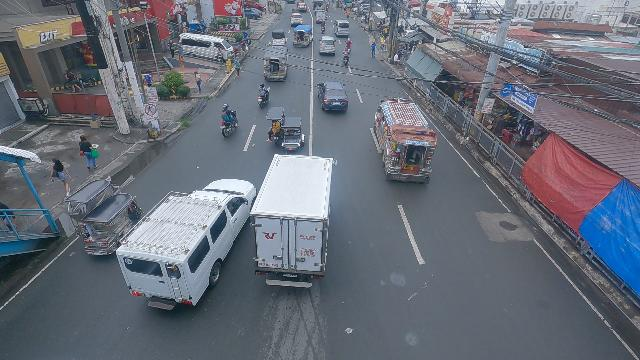car: (317, 80, 349, 112), (318, 36, 337, 55), (244, 7, 263, 19), (290, 12, 304, 26), (297, 3, 308, 13)
jeepney: (374, 95, 438, 185), (263, 45, 289, 82), (292, 25, 313, 49)
motorcycle: (220, 103, 239, 138), (257, 82, 271, 109), (342, 48, 350, 64), (345, 37, 352, 54), (321, 20, 326, 34), (325, 3, 329, 11)
truck: (250, 152, 336, 285), (315, 10, 325, 23)
van: (115, 177, 258, 306), (179, 32, 235, 63), (333, 19, 350, 37)
